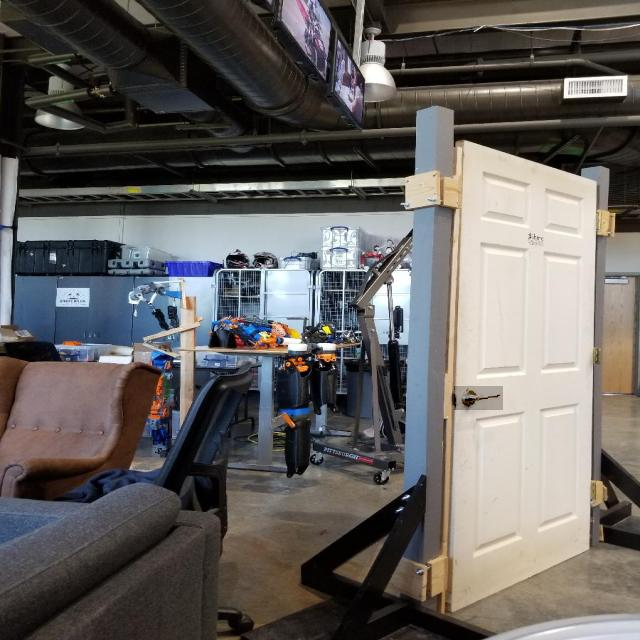doorhandle: (454, 386, 503, 410)
